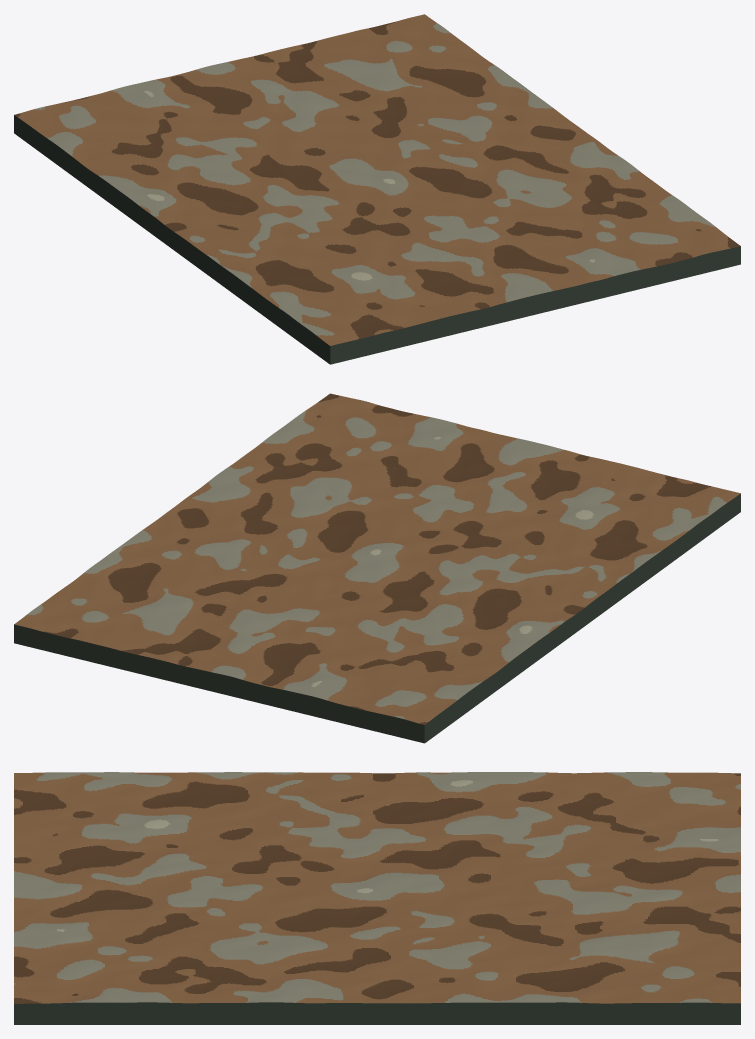
File: full_uneven_medium.dae
3 renders of one model, top to bottom at view 1: azimuth 30°, elevation 25°; view 2: azimuth 150°, elevation 25°; view 3: azimuth 270°, elevation 25°, orthographic. The views are drawn at different scales.
Parts seen in each view (by area): view 1: terrain_node; view 2: terrain_node; view 3: terrain_node.
Boxes of the visible parts, x1,y1,x2,y2 form: terrain_node: (14,14,740,364); terrain_node: (14,393,740,743); terrain_node: (14,772,740,1024).
Bounding box in the file's own units: 6 × 8 × 0.28.
